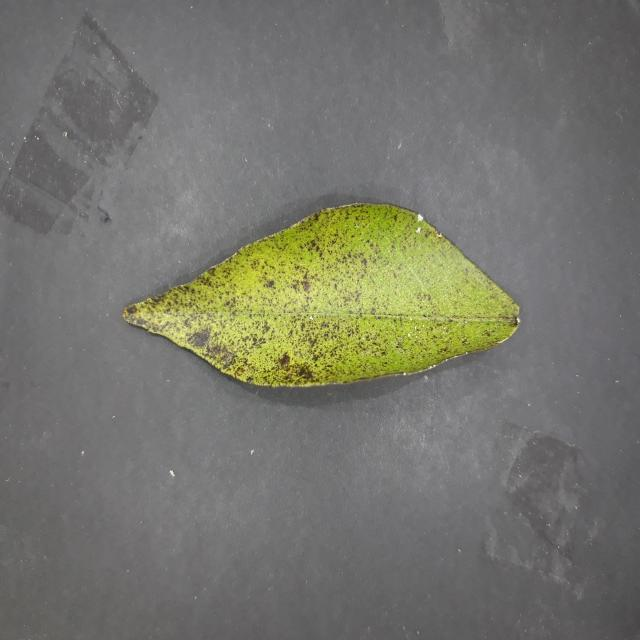greasy_spot: (123, 203, 519, 386)
